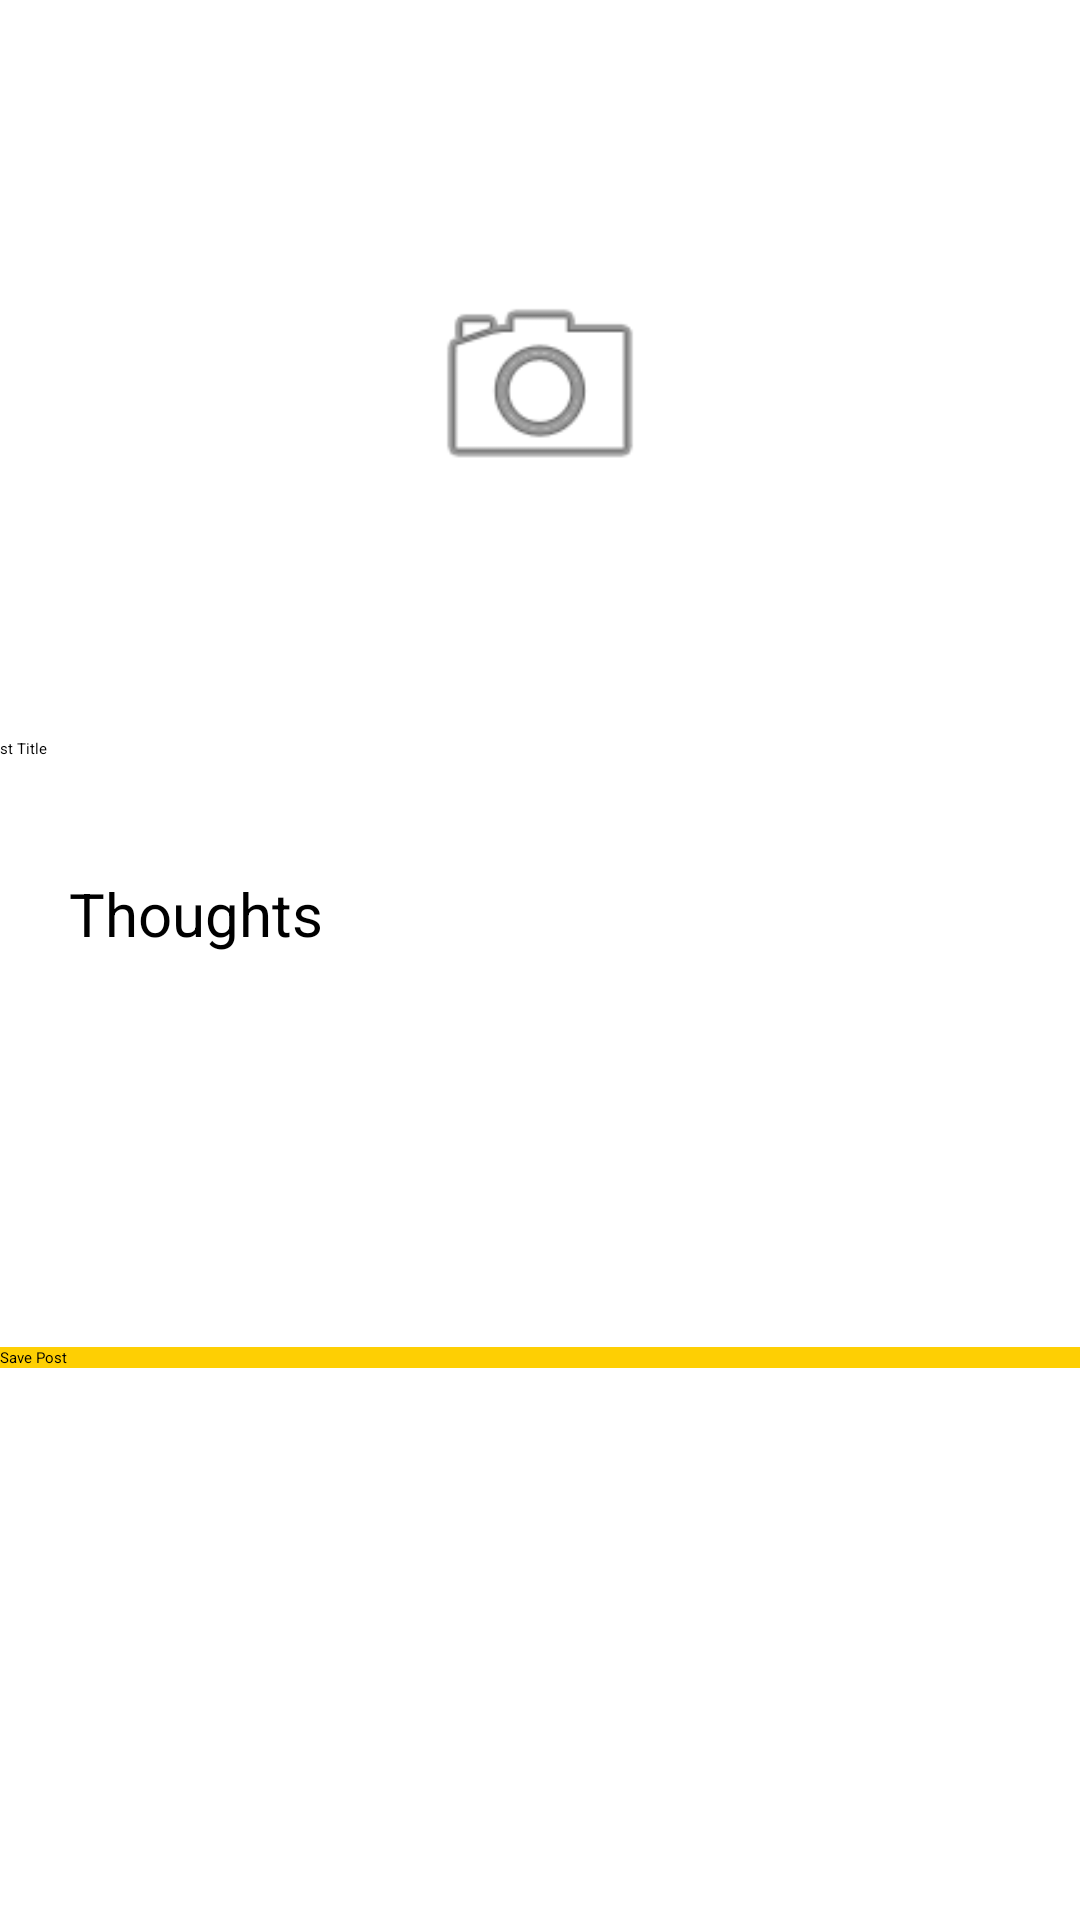

Named icons in this screenshot (1080px×1920px) and their centers, (x,y):
camera: (540,383)
